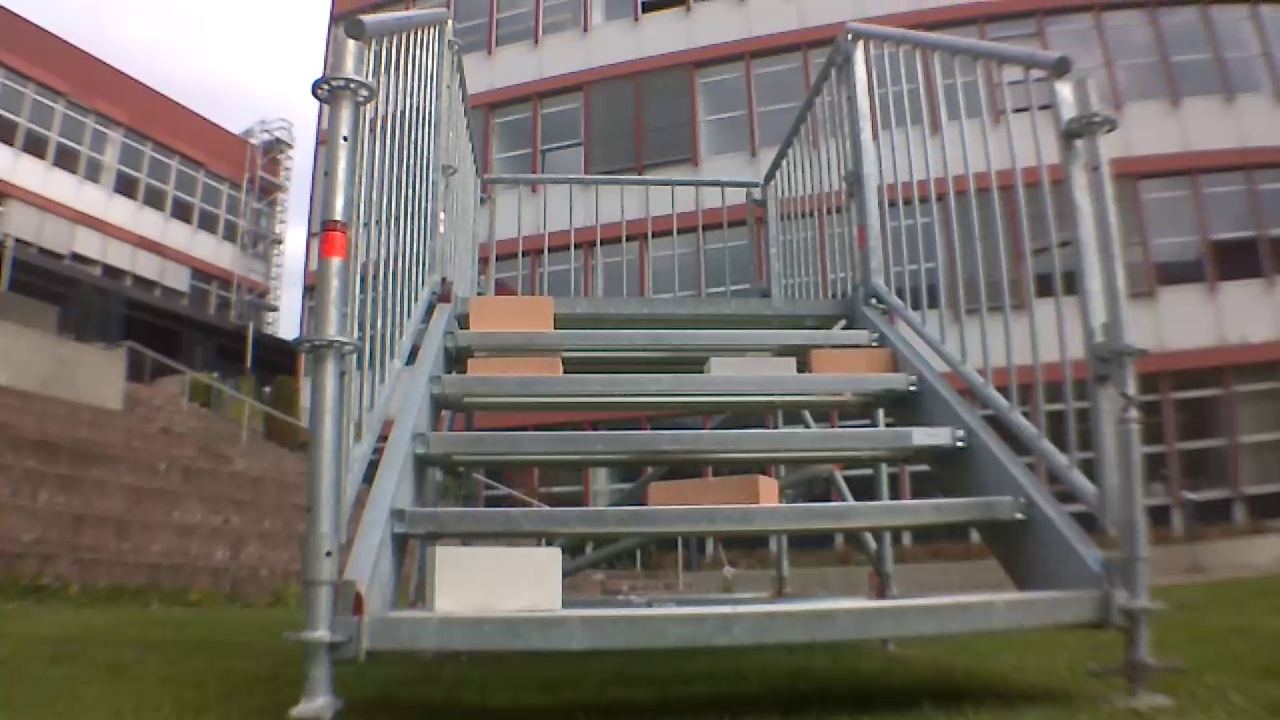brick: (423, 545, 570, 612), (647, 476, 783, 508), (470, 294, 559, 331), (464, 353, 559, 376), (805, 349, 895, 372), (703, 355, 797, 375)
edge: (367, 591, 1113, 653), (384, 497, 1040, 535), (411, 423, 974, 457), (431, 370, 917, 400), (442, 325, 886, 348), (461, 297, 850, 314)
stairs: (299, 0, 1141, 704)
steps: (347, 288, 1113, 659)
